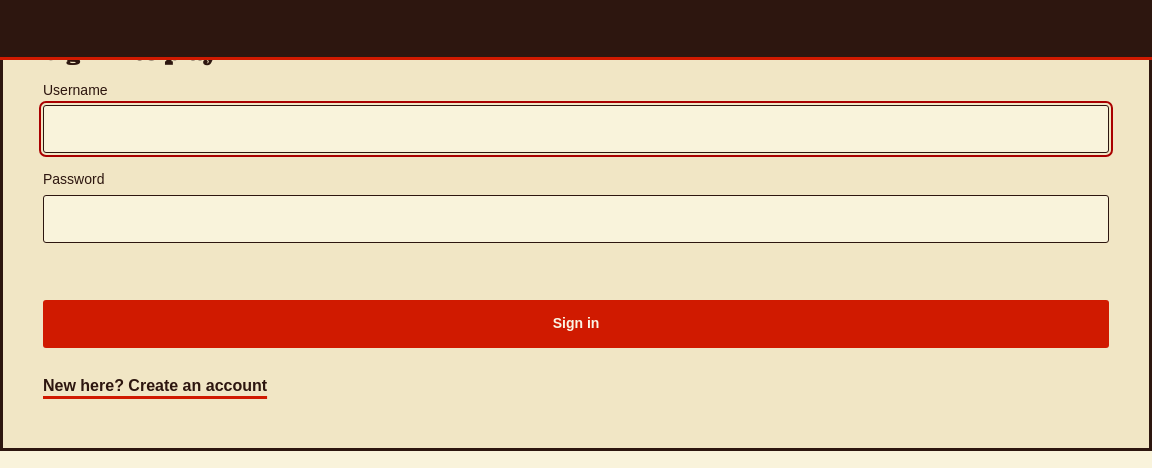
Test: AuthForm: signing in › asks for both fields when username is "erica" and password is ""
Type "erica" into the field labelled "Username" at [576, 129], box 43,105 -> 1109,153
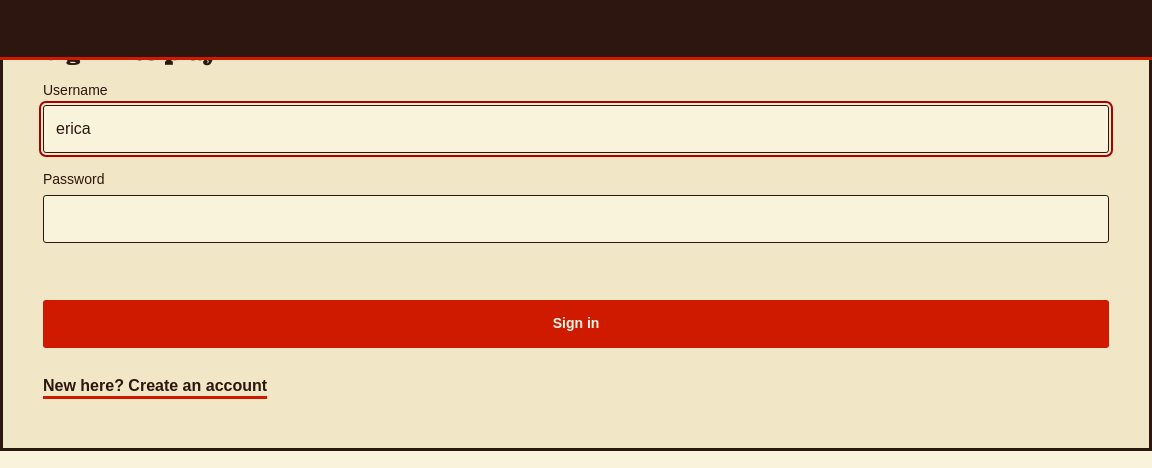
Click the button "Sign in" at [576, 324], box 43,300 -> 1109,348
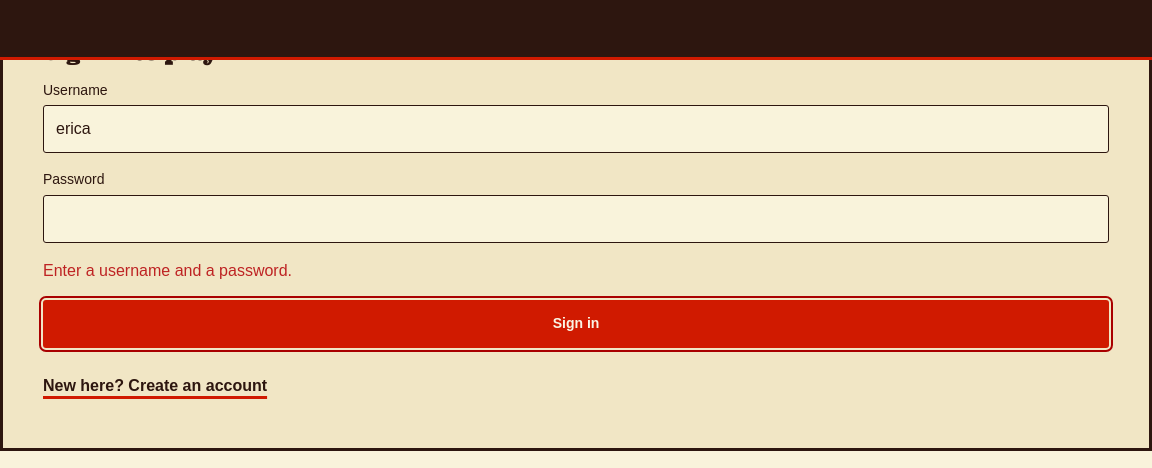
Expected: the message reads "Enter a username and a password.", 43,262 -> 292,279
